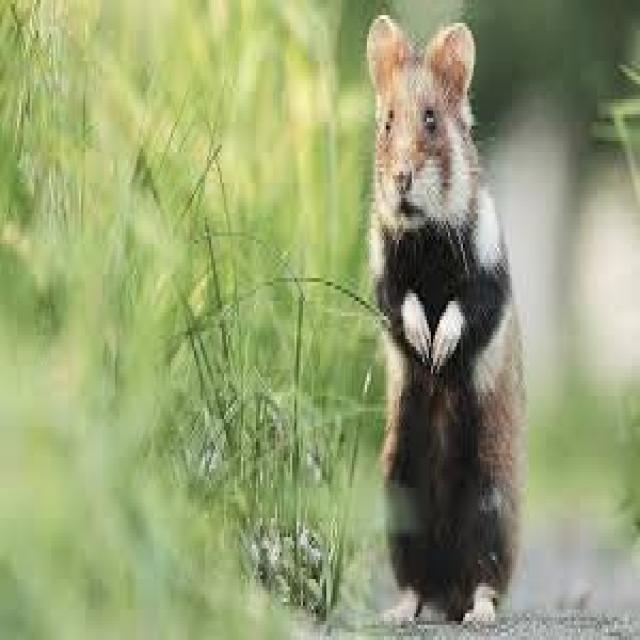hamster: (365, 62, 526, 588)
